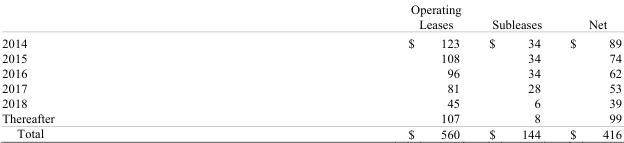table: (1, 1, 621, 140)
table column: (230, 1, 474, 140), (1, 1, 230, 140), (474, 1, 555, 140), (555, 1, 621, 140)
table column header: (1, 1, 621, 32)
table row: (1, 1, 621, 32), (1, 32, 621, 49), (1, 64, 621, 80), (1, 49, 621, 64), (1, 80, 621, 95), (1, 95, 621, 110), (1, 110, 621, 125), (1, 125, 621, 140)
